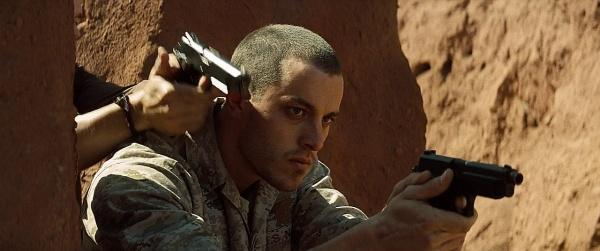Gun: (413, 148, 525, 218), (172, 31, 251, 103)
